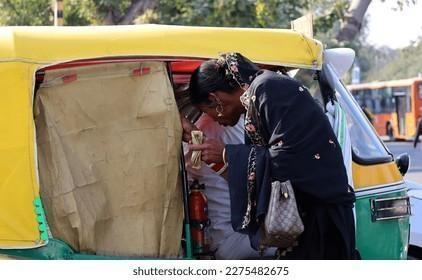keke: (3, 25, 412, 262)
